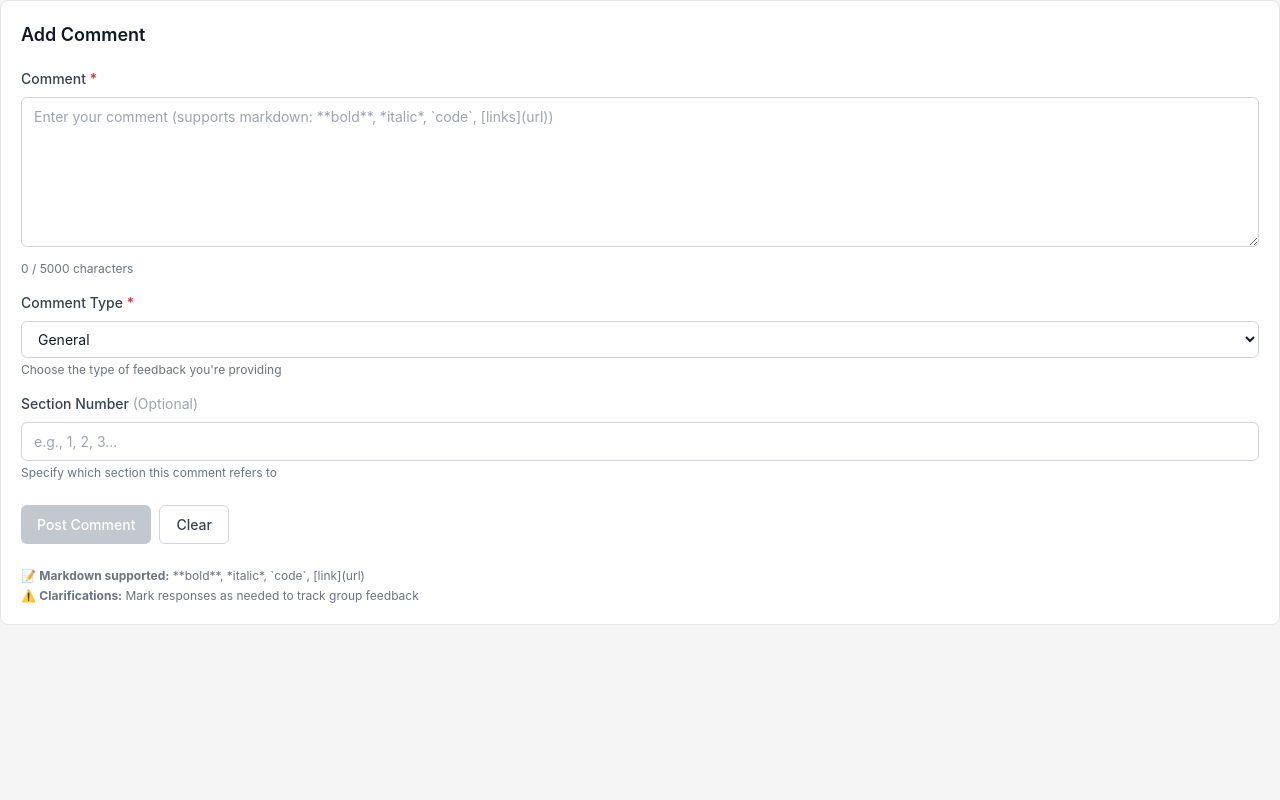
Test: AddCommentForm › Error Handling › shows permission error on 403 response
The width and height of the screenshot is (1280, 800).
Type "Test" into the text box named "Comment content" at (640, 172), box [21, 97, 1259, 247]
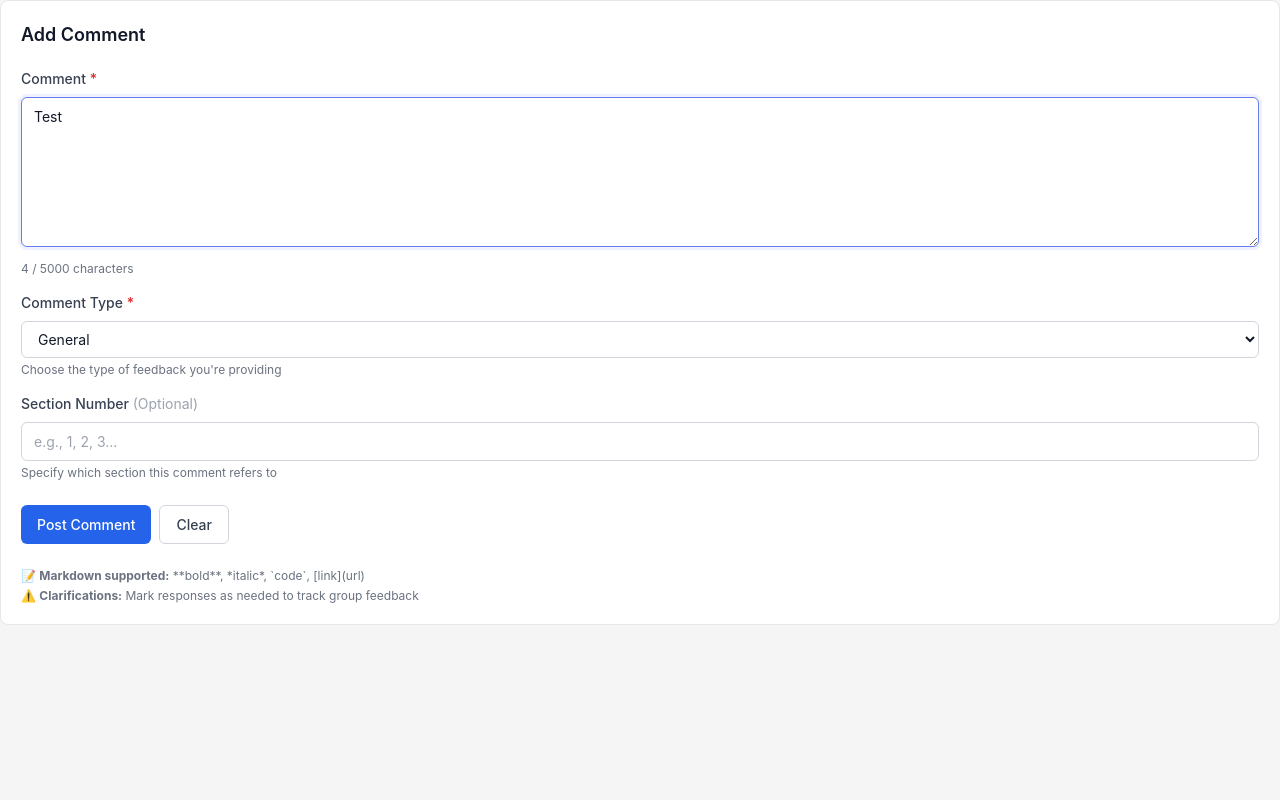
Click the button with aria-label "Submit comment" at (86, 524), box [21, 505, 151, 544]
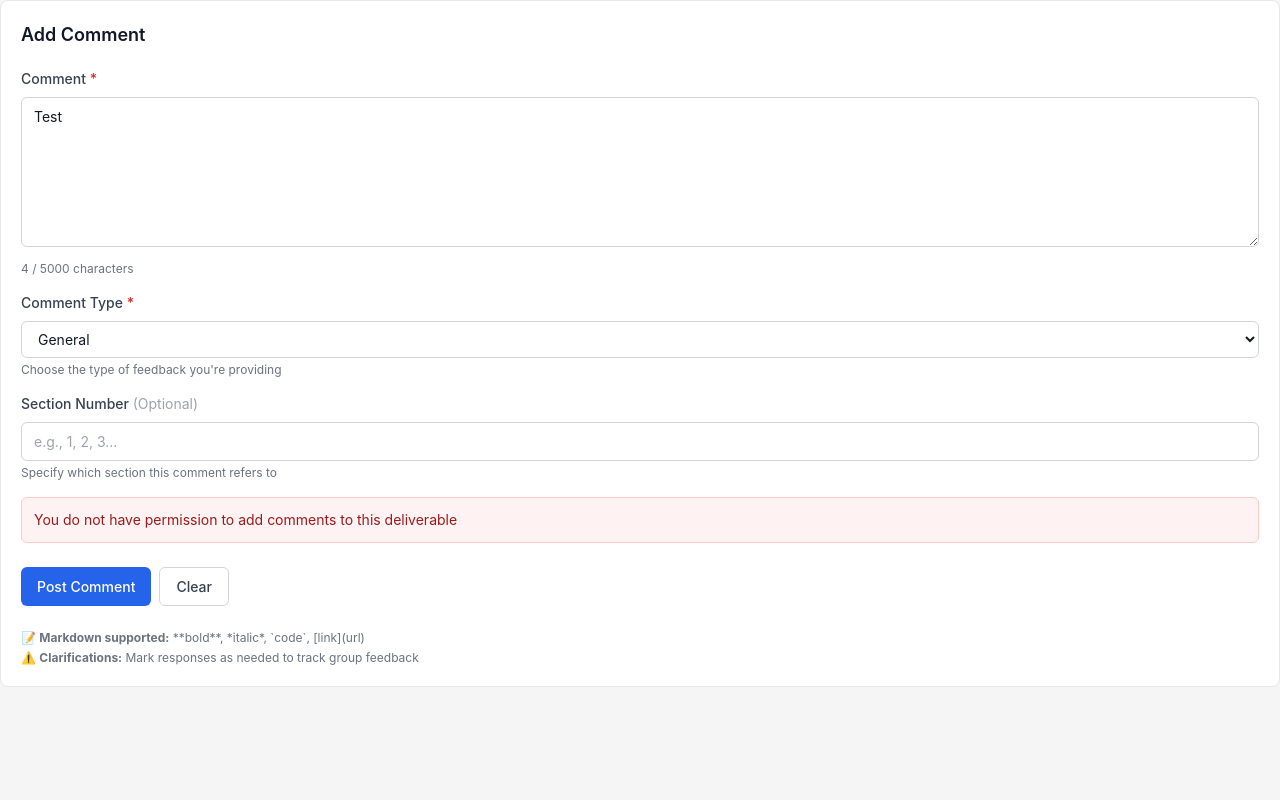
Result: the text "You do not have permission" is shown at [34, 511, 457, 528]
